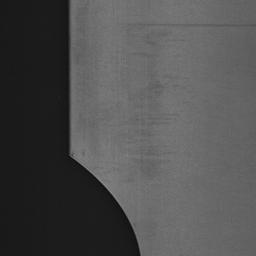Crescent gap: (70, 156, 140, 256)
